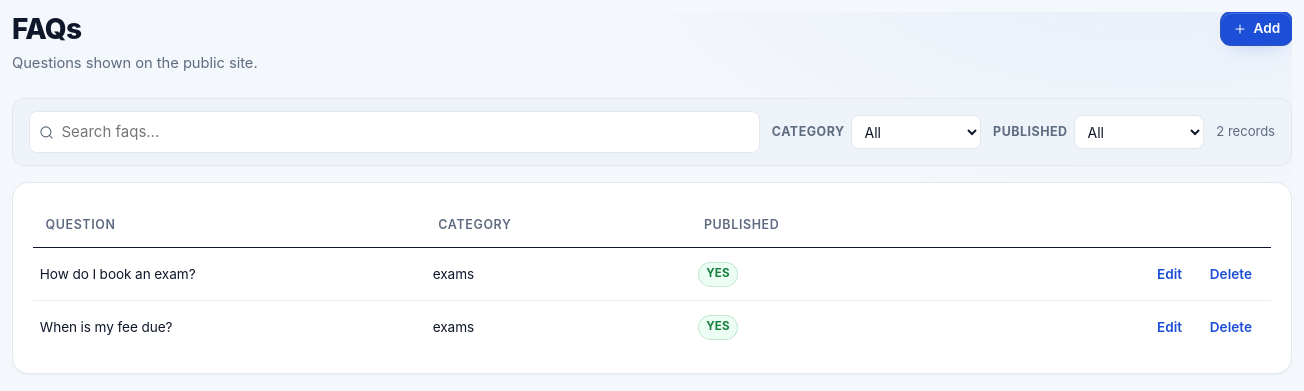
Test: CrudSection (premium list) › searches across the listed columns
The width and height of the screenshot is (1304, 391).
Type "book" into the search field labelled "Search".
click(394, 132); type("book")  # box left=29, top=111, right=760, bottom=153
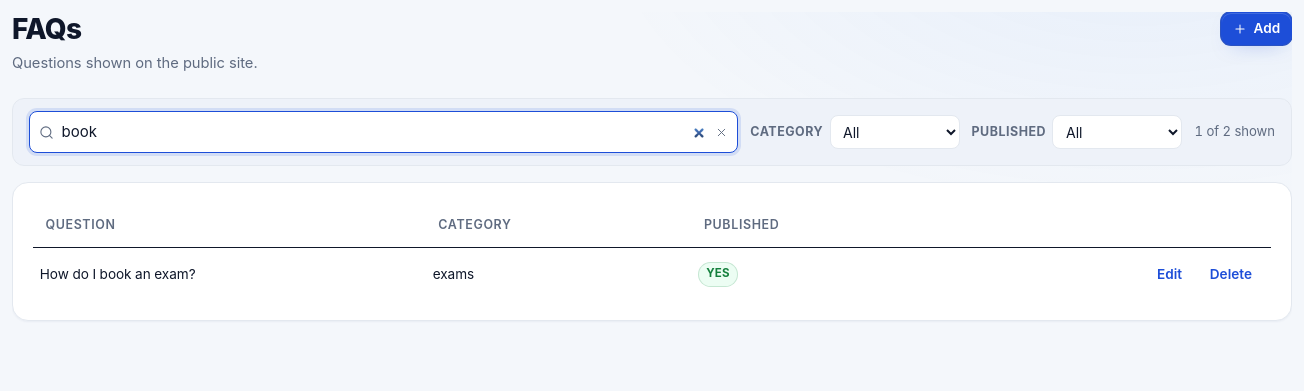
Expected: the text "How do I book an exam?" is shown, left=33, top=248, right=426, bottom=300
Expected: the text "1 of 2 shown" is shown, left=1194, top=122, right=1275, bottom=142
